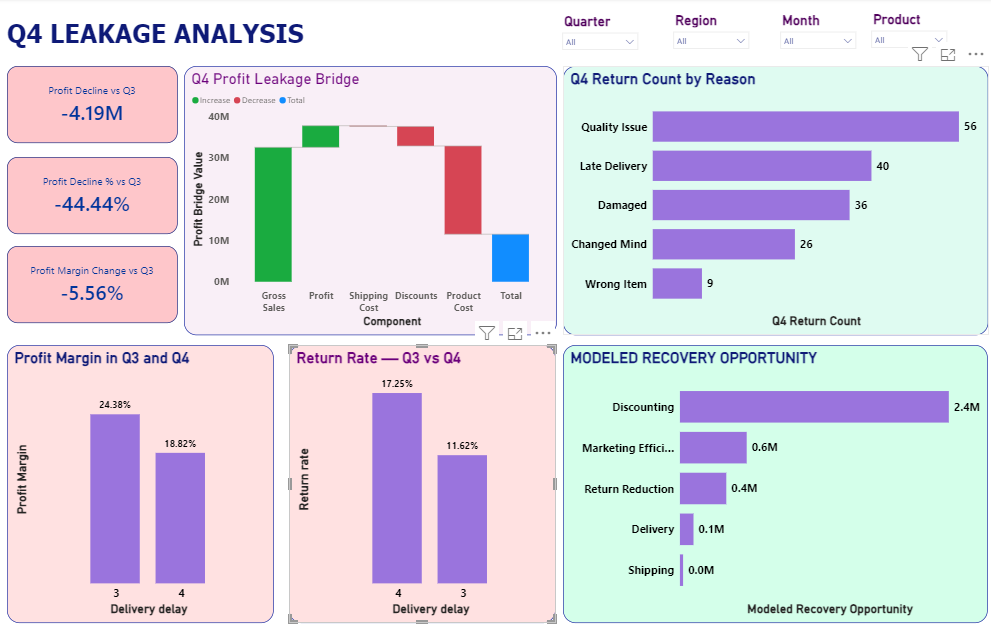

The dashboard page shown, as its layout file describes it:
{"tool":"powerbi","page":{"name":"Q4 Leakage Analysis","canvas":[1570,1000],"ordinal":3},"visuals":[{"type":"group","id":"g1","title":"Group 4","box":[11.2,3.2,1588.8,104.4],"z":0},{"type":"shape","box":[11.2,3.2,1588.8,104.4],"z":0,"group":"g1"},{"type":"cardVisual","fields":{"Data":["ecommerce_cleaned.Profit Decline"]},"box":[11.2,107.6,269.9,122.1],"z":0,"group":"g2"},{"type":"slicer","fields":{"Values":["ecommerce_cleaned.quarter"]},"box":[879.9,18.9,139.8,73.9],"z":1000,"group":"g1"},{"type":"cardVisual","fields":{"Data":["ecommerce_cleaned.Profit Decline %"]},"box":[11.2,252.2,269.9,122.1],"z":1000},{"type":"slicer","fields":{"Values":["ecommerce_cleaned.region"]},"box":[1055,17.3,139.8,73.9],"z":2000,"group":"g1"},{"type":"cardVisual","fields":{"Data":["ecommerce_cleaned.Profit Margin Change"]},"box":[11.2,392,269.9,122.1],"z":2000},{"type":"slicer","fields":{"Values":["ecommerce_cleaned.month"]},"box":[1225.3,17.3,139.8,73.9],"z":3000,"group":"g1"},{"type":"group","id":"g2","title":"Group 1","box":[11.2,107.6,269.9,122.1],"z":3000},{"type":"slicer","fields":{"Values":["ecommerce_cleaned.product_name"]},"box":[1368.2,15.7,139.8,73.9],"z":4000,"group":"g1"},{"type":"clusteredColumnChart","title":"Return Rate — Q3 vs Q4","fields":{"Y":["ecommerce_cleaned.Return rate"],"Category":["ecommerce_cleaned.quarter"]},"box":[457.8,549.4,422.5,440.2],"z":4000},{"type":"clusteredColumnChart","title":" Profit Margin in Q3 and Q4","fields":{"Y":["ecommerce_cleaned.Profit Margin"],"Category":["ecommerce_cleaned.quarter"]},"box":[11.2,549.4,422.5,440.2],"z":5000},{"type":"waterfallChart","title":" Q4 Profit Leakage Bridge  ","fields":{"Category":["Profit Bridge.Component"],"Y":["Profit Bridge.Profit Bridge Value"]},"box":[290.8,107.6,589.6,425.7],"z":6000},{"type":"clusteredBarChart","title":"Q4 Return Count by Reason","fields":{"Y":["ecommerce_cleaned.Q4 Return Count"],"Category":["ecommerce_cleaned.return_reason"]},"box":[891.6,107.6,673.1,425.7],"z":7000},{"type":"clusteredBarChart","title":"MODELED RECOVERY OPPORTUNITY","fields":{"Category":["Opportunity Areas.Area"],"Y":["Opportunity Areas.Modeled Recovery Opportunity"]},"box":[890.8,549.1,672.5,439.9],"z":8000},{"type":"actionButton","box":[1531.6,3.2,38,39.6],"z":8001}]}

Visuals, with their boxes in screenshot pixels (x1, y1, x2, y2), scaled from the page's 1570x1000 canvas onto the 991x626 screenshot:
"Group 4" group: bbox(7, 2, 990, 67)
shape: bbox(7, 2, 990, 67)
cardVisual - ecommerce_cleaned.Profit Decline: bbox(7, 67, 177, 144)
slicer - ecommerce_cleaned.quarter: bbox(555, 12, 644, 58)
cardVisual - ecommerce_cleaned.Profit Decline %: bbox(7, 158, 177, 234)
slicer - ecommerce_cleaned.region: bbox(666, 11, 754, 57)
cardVisual - ecommerce_cleaned.Profit Margin Change: bbox(7, 245, 177, 322)
slicer - ecommerce_cleaned.month: bbox(773, 11, 862, 57)
"Group 1" group: bbox(7, 67, 177, 144)
slicer - ecommerce_cleaned.product_name: bbox(864, 10, 952, 56)
"Return Rate — Q3 vs Q4" clusteredColumnChart: bbox(289, 344, 556, 619)
" Profit Margin in Q3 and Q4" clusteredColumnChart: bbox(7, 344, 274, 619)
" Q4 Profit Leakage Bridge  " waterfallChart: bbox(184, 67, 556, 334)
"Q4 Return Count by Reason" clusteredBarChart: bbox(563, 67, 988, 334)
"MODELED RECOVERY OPPORTUNITY" clusteredBarChart: bbox(562, 344, 987, 619)
actionButton: bbox(967, 2, 990, 27)
